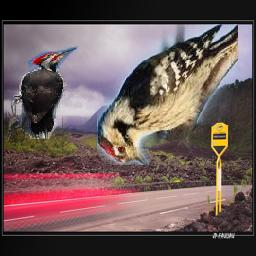Woodpecker: (98, 25, 239, 166), (8, 47, 81, 140)
